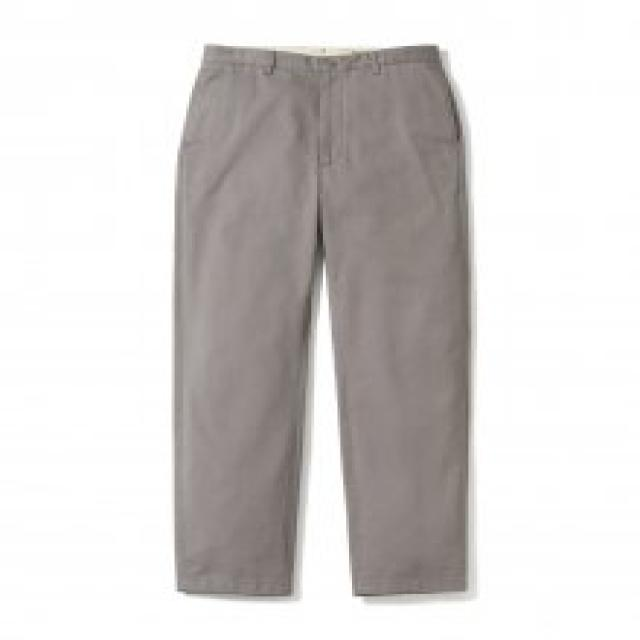long-pants: (173, 41, 469, 600)
